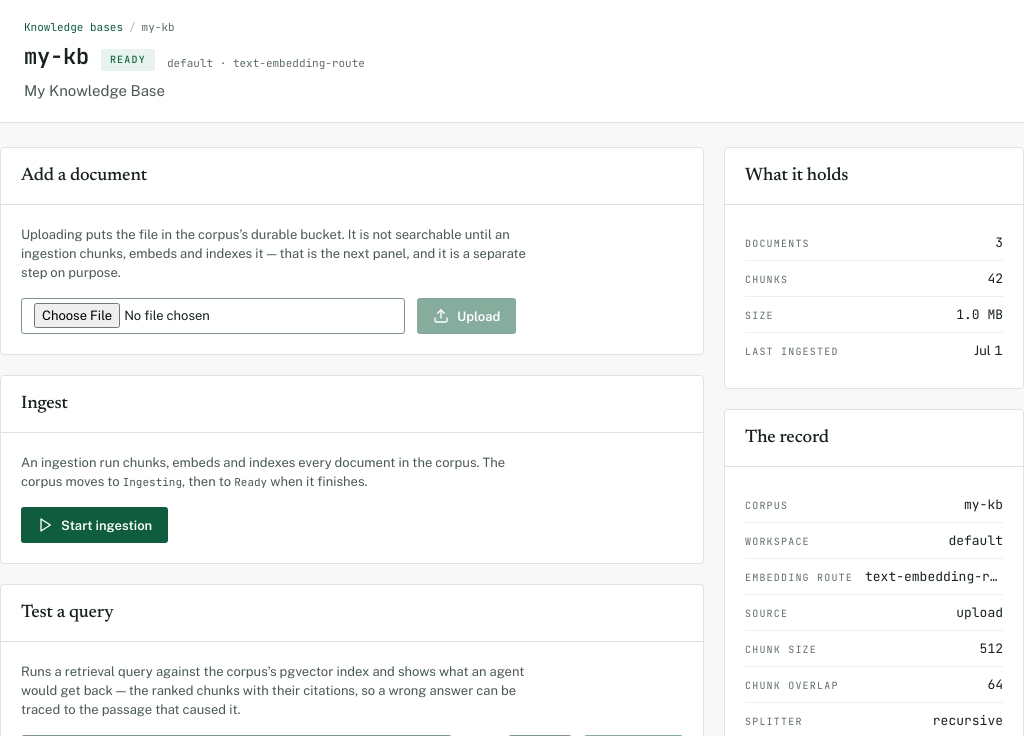
Test: KBDetailPage — test-query panel (m68.13) › renders the ingest button and shows success on 202
Click the button with test id "ingest-button": [95, 525] box top-left (21, 507), bottom-right (168, 543)
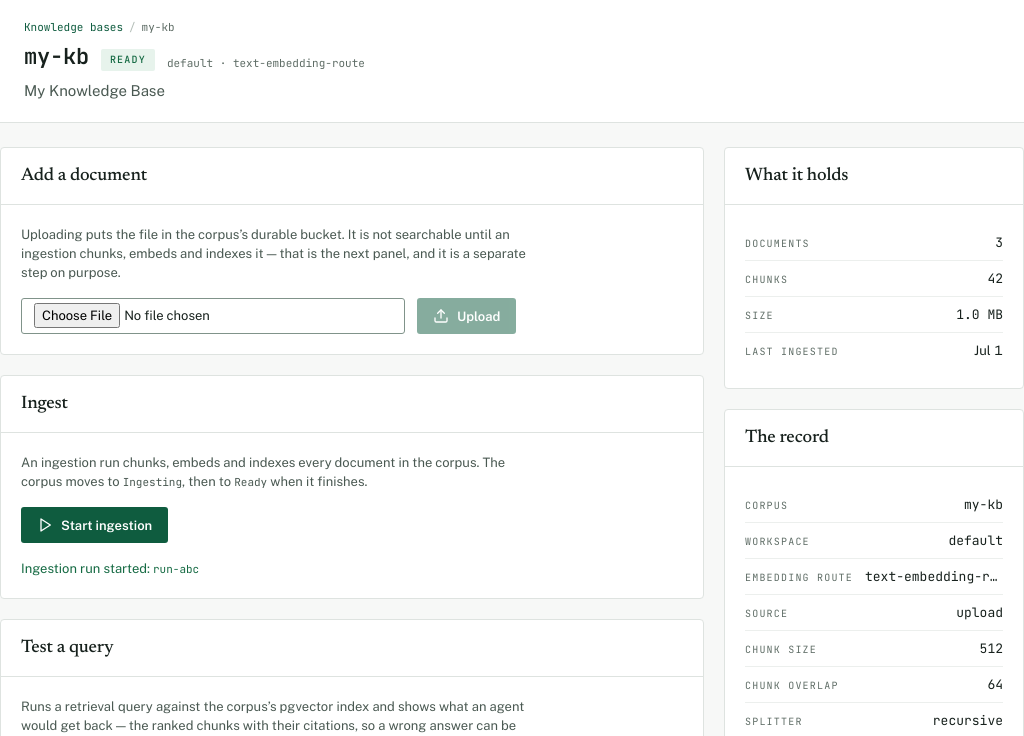
Expected: the element with test id "ingest-result" shows "run-abc", top-left (153, 562), bottom-right (199, 576)
